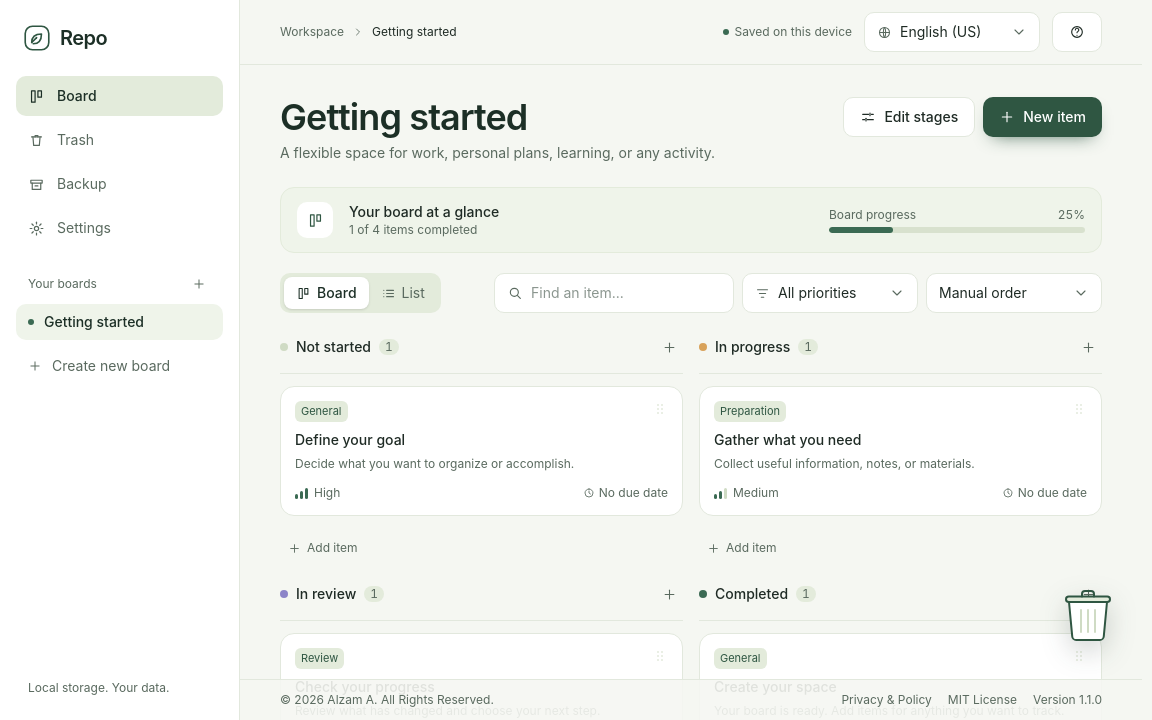
Test: settings › lets the user rearrange the menu, hide the floating bin, and see the app and schema versions
Expected: the heading "Getting started" is shown, [280,95,527,139]
Expected: the button named "Open trash" is shown, [1056,576,1120,648]
Click the button "Settings". click: (120, 228)
box: [16,208,223,248]
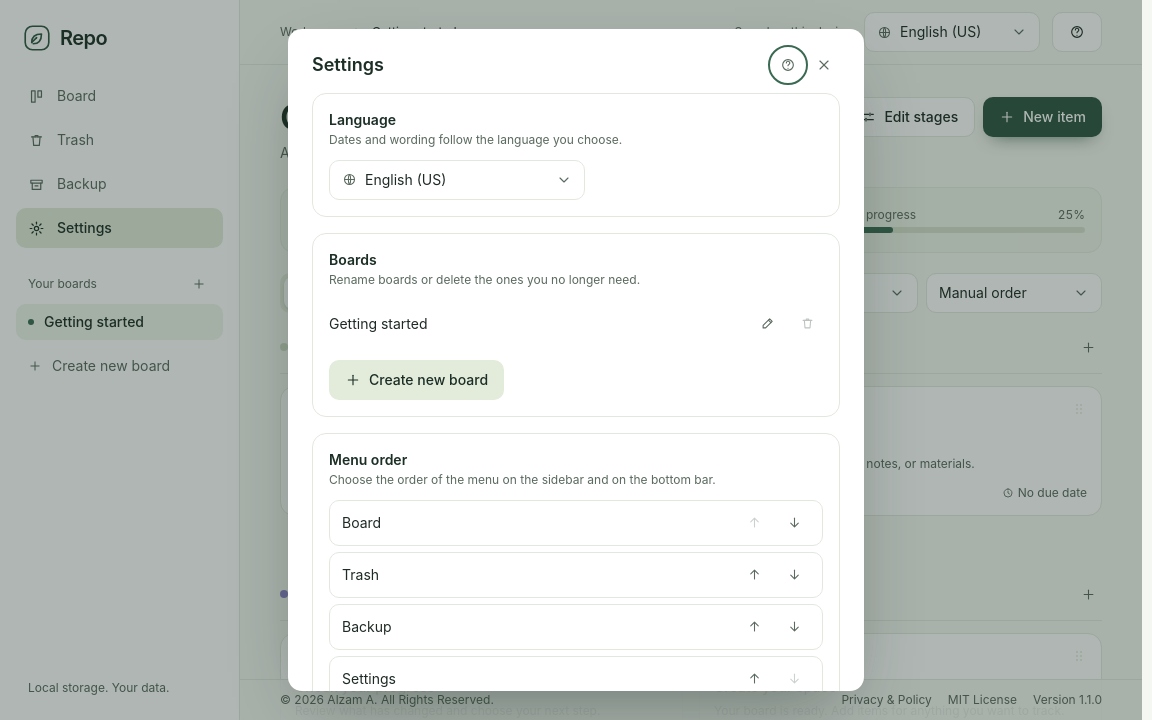
Click the button named "Move Trash down". click: (794, 575)
box: [778,559,810,591]
(page scrolled)
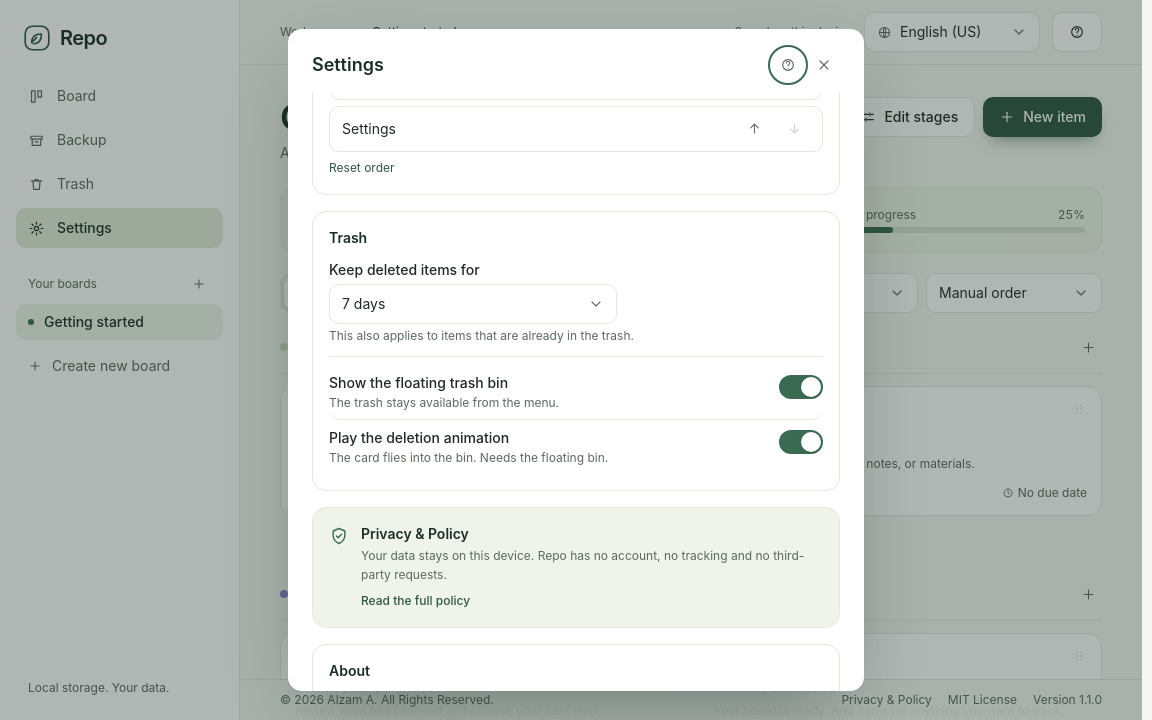
Expected: the buttons read "Board", "Backup", "Trash", "Settings", in this order, [16,76,223,116]; [16,120,223,160]; [16,164,223,204]; [16,208,223,248]
Click the switch labelled "Show the floating trash bin". click: (419, 382)
box: [329,365,823,420]
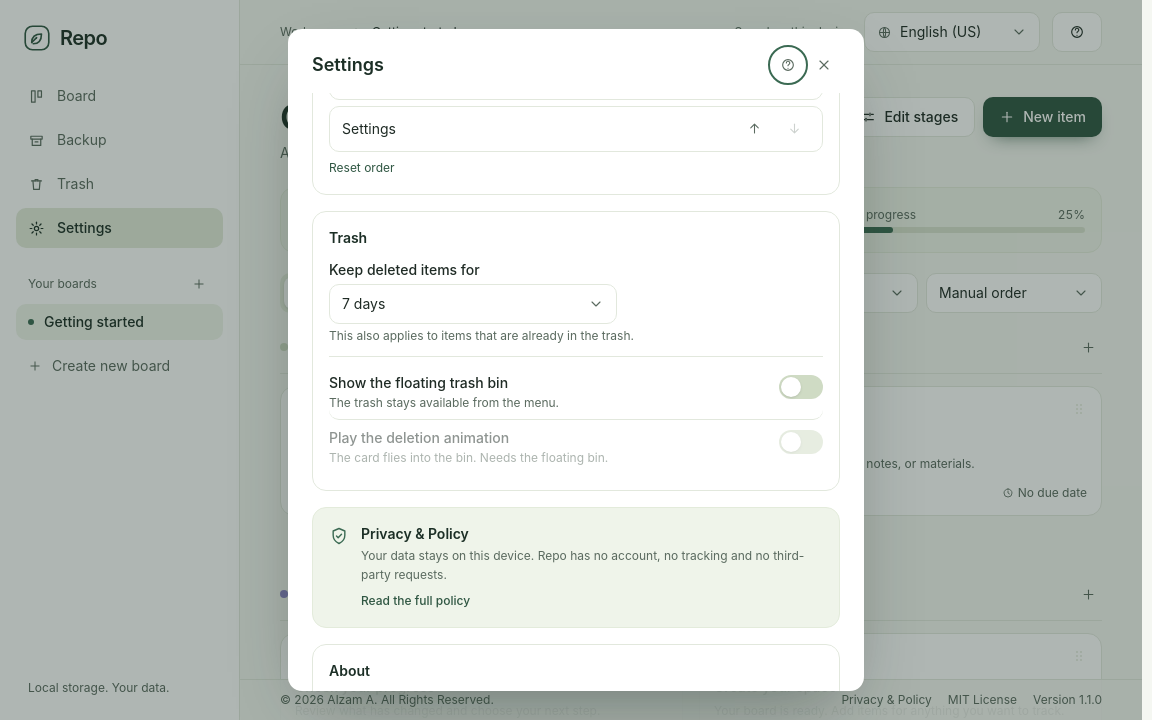
Expected: the switch labelled "Play the deletion animation" is disabled, [329,420,823,474]
